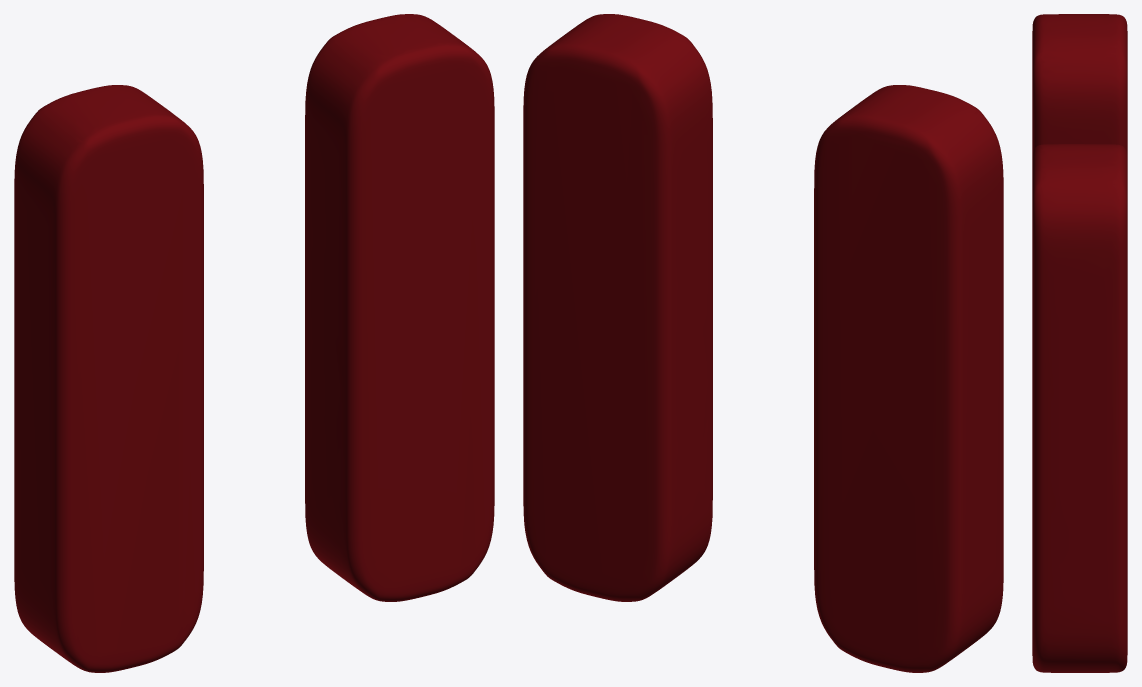
File: pause.glb
3 views of the same model, side by side, from view 1: azimuth 30°, elevation 25°; view 2: azimuth 150°, elevation 25°; view 3: azimuth 270°, elevation 25° (orthographic). The views are drawn at different scales.
Visible parts, largest first — view 1: Cube; view 2: Cube; view 3: Cube.
Part boxes in pixels (left/top/right/bottom): Cube: left=14, top=14, right=494, bottom=672; Cube: left=523, top=14, right=1003, bottom=672; Cube: left=1032, top=14, right=1127, bottom=672.
Bounding box in the file's own units: 1.45 × 1.73 × 0.2965.
